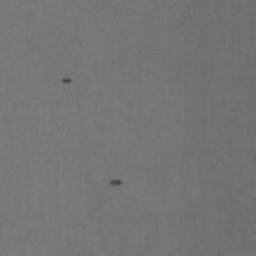Inclusion: (110, 178, 124, 187), (61, 77, 72, 84)
